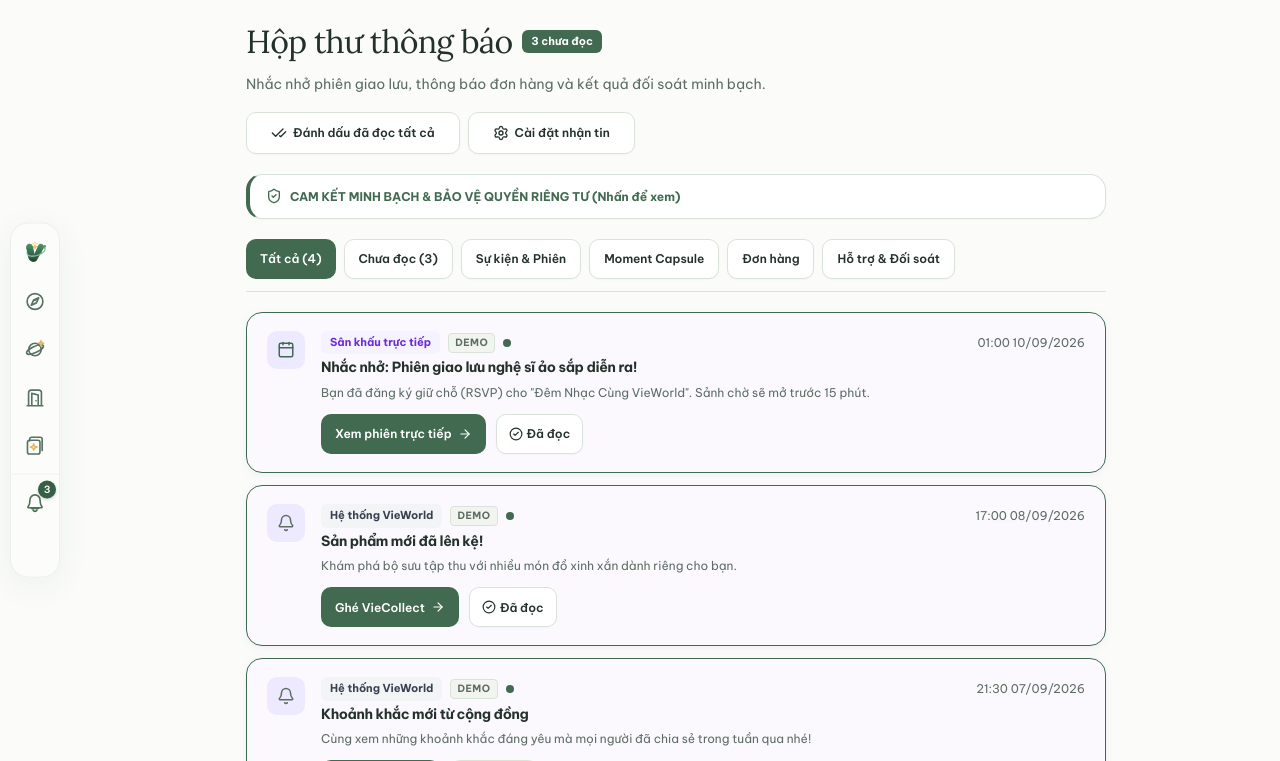
Test: T10 Acceptance: Notifications, Inbox, and Read States › 2. UI Integration, Attribution Truthfulness & End-to-End Journeys › clicking "Đánh dấu đã đọc tất cả" clears all unread tags and unread badge
Click the button with test id "mark-all-read-btn".
click(353, 133)  # box [246,112,460,154]
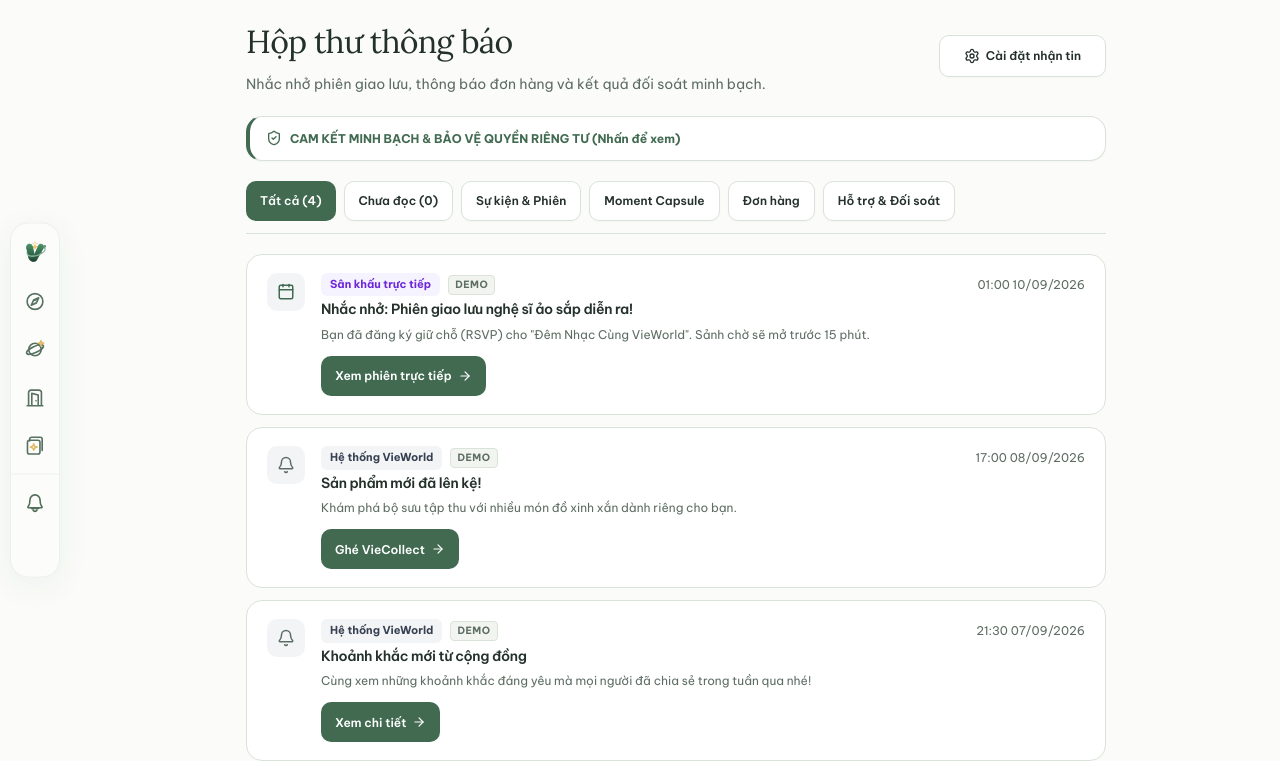
Expected: the text with test id "inbox-unread-count-tag" is gone
Expected: the button named "Thông báo, 0 chưa đọc" is shown, [13,480,57,524]
# "Chưa đọc" tab now shows empty state
Click the tab "Chưa đọc (0)".
click(398, 201)  # box [344,181,453,221]
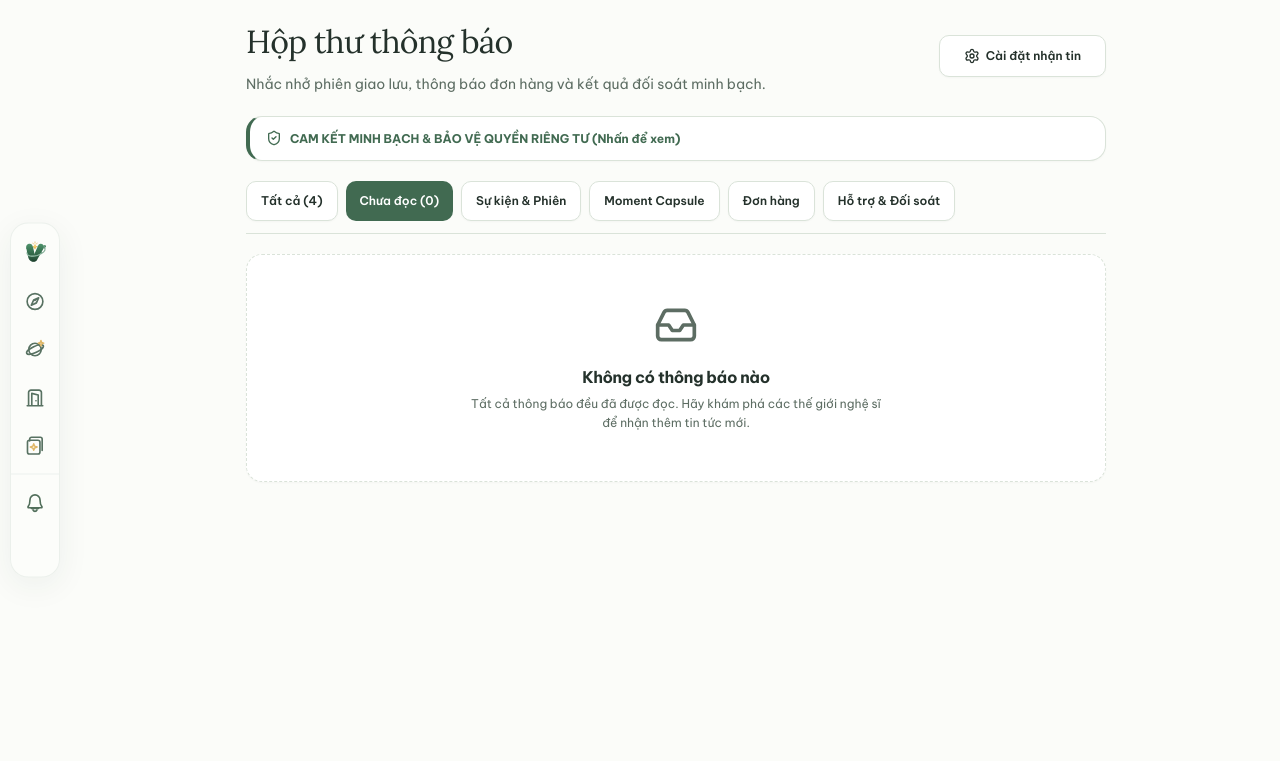
Expected: the element with test id "empty-notifications-card" is shown, [246,254,1106,482]
Expected: the text "Tất cả thông báo đều đã được đọc" is shown, [471,396,881,430]
